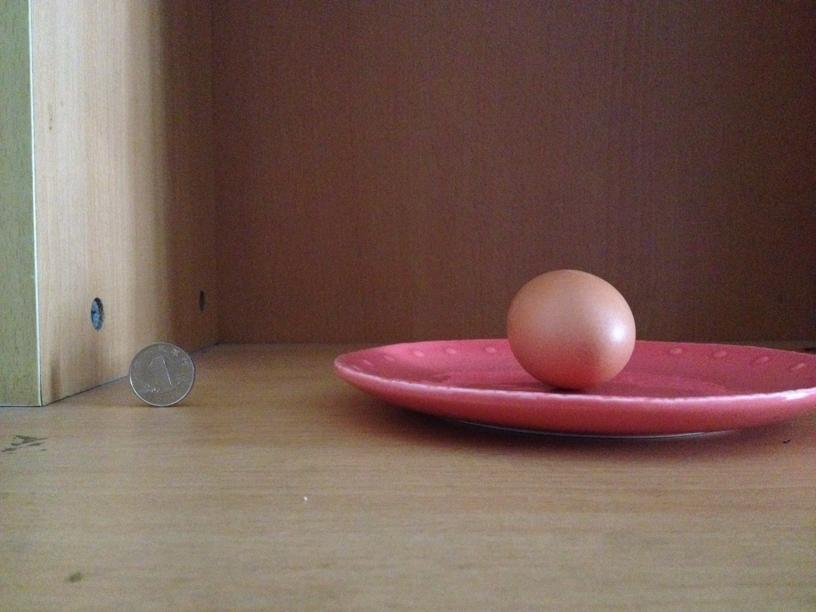coin: (126, 343, 193, 404)
egg: (503, 269, 638, 388)
